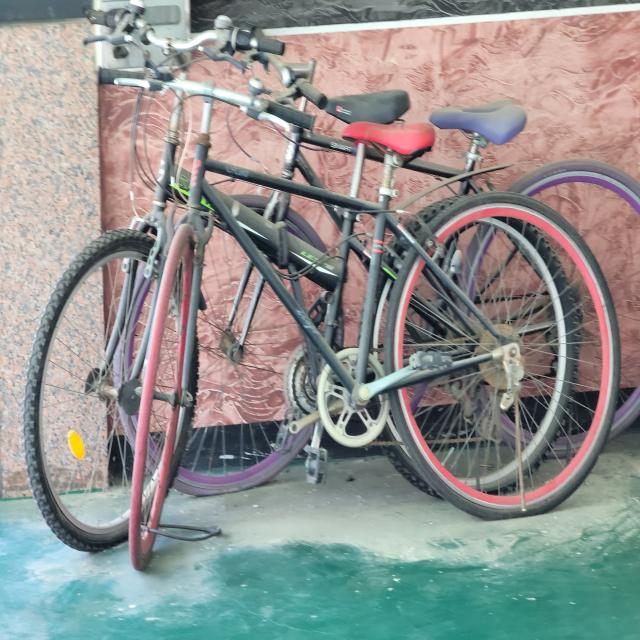bicycle: (24, 17, 626, 565)
